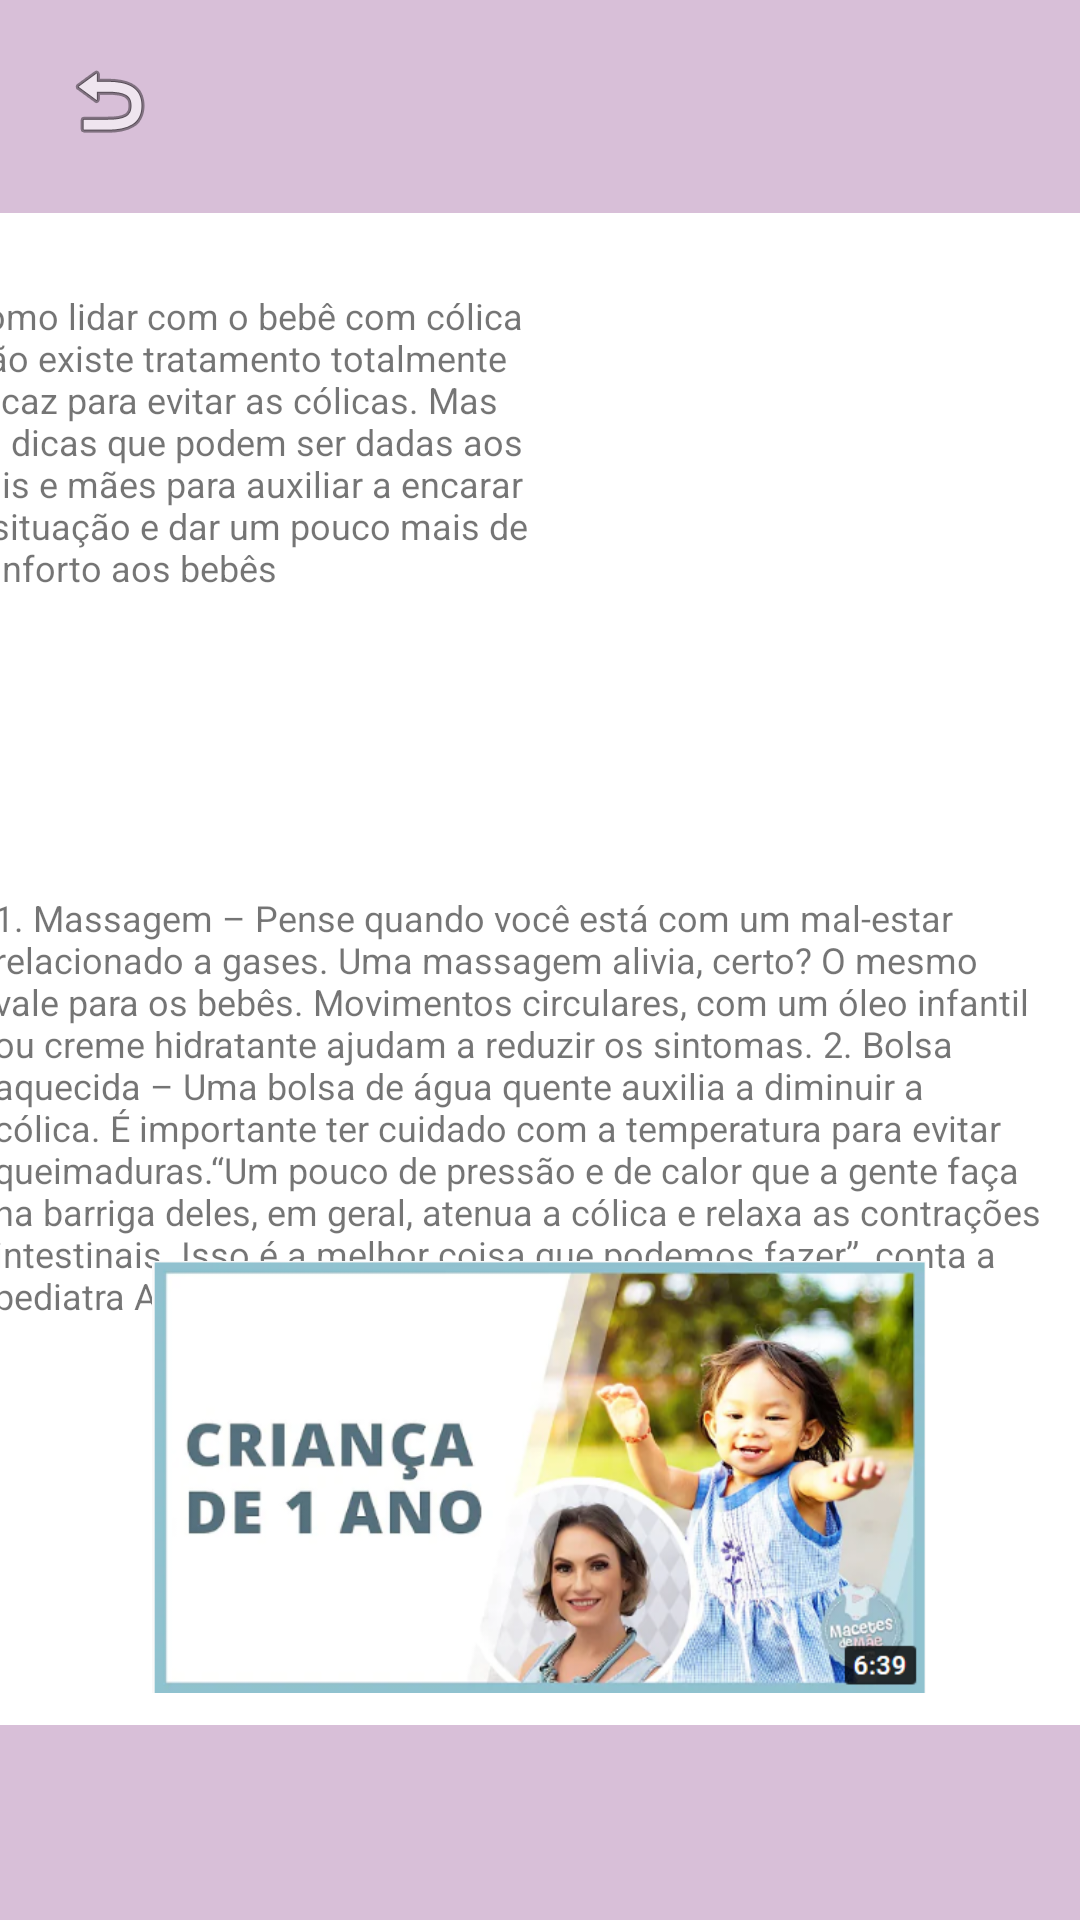

Point at icon controls on the screen. Image size 1080px x 1920px, points as [x,y].
revert: [110,101]
